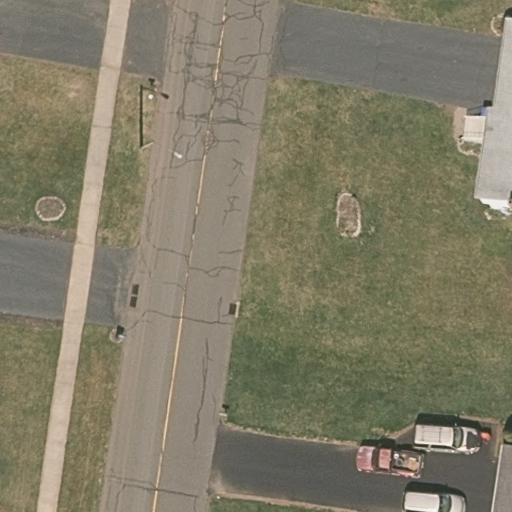DT: (136, 139, 158, 156)
